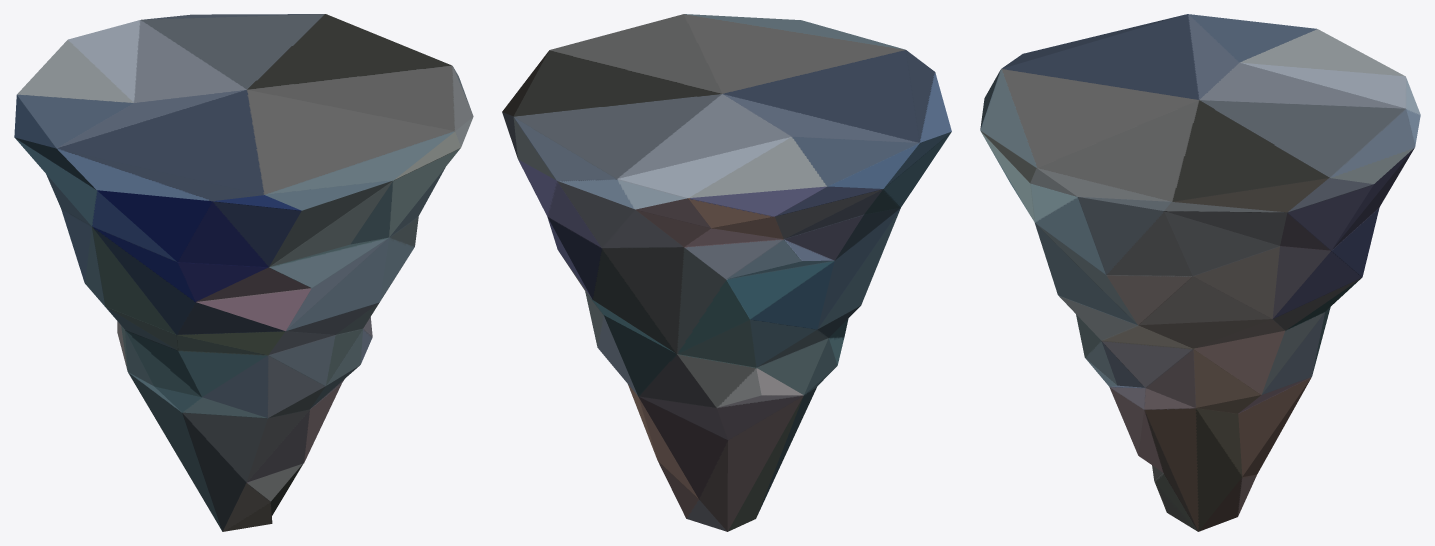
The model's file is tornado.fbx.
3 views of the same model, side by side, from view 1: azimuth 30°, elevation 25°; view 2: azimuth 150°, elevation 25°; view 3: azimuth 270°, elevation 25° (orthographic). The views are drawn at different scales.
Parts seen in each view (by area): view 1: Mesh_0; view 2: Mesh_0; view 3: Mesh_0.
Boxes of the visible parts, bbox=[...] form: Mesh_0: bbox=[14, 14, 473, 531]; Mesh_0: bbox=[502, 14, 951, 531]; Mesh_0: bbox=[980, 14, 1420, 531].
Bounding box in the file's own units: 110 × 117 × 111.
1 material, 1 textured.
